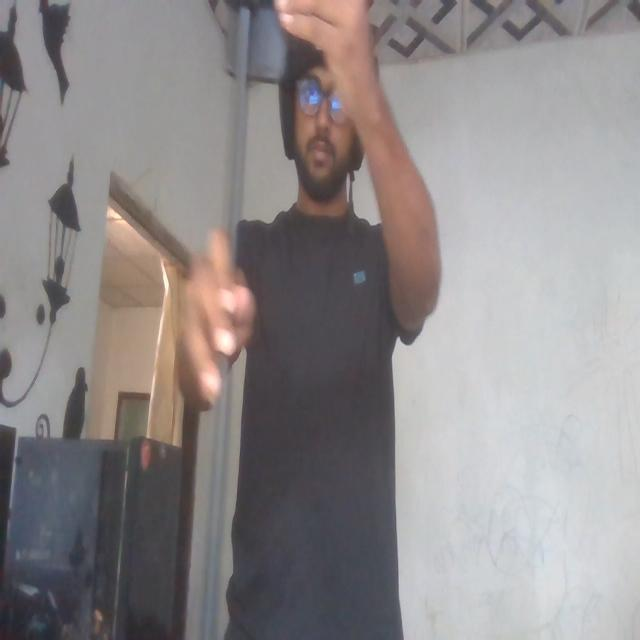Helmet_Wearer: (279, 7, 374, 221)
Person: (199, 0, 435, 640)
